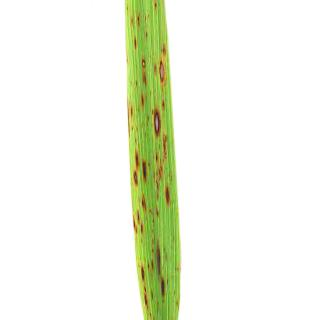bercak-Cokelat: (130, 208, 146, 240), (152, 235, 162, 284), (138, 54, 150, 92), (150, 105, 163, 138), (141, 157, 154, 186), (157, 60, 168, 87), (164, 183, 172, 210), (140, 194, 148, 214)
